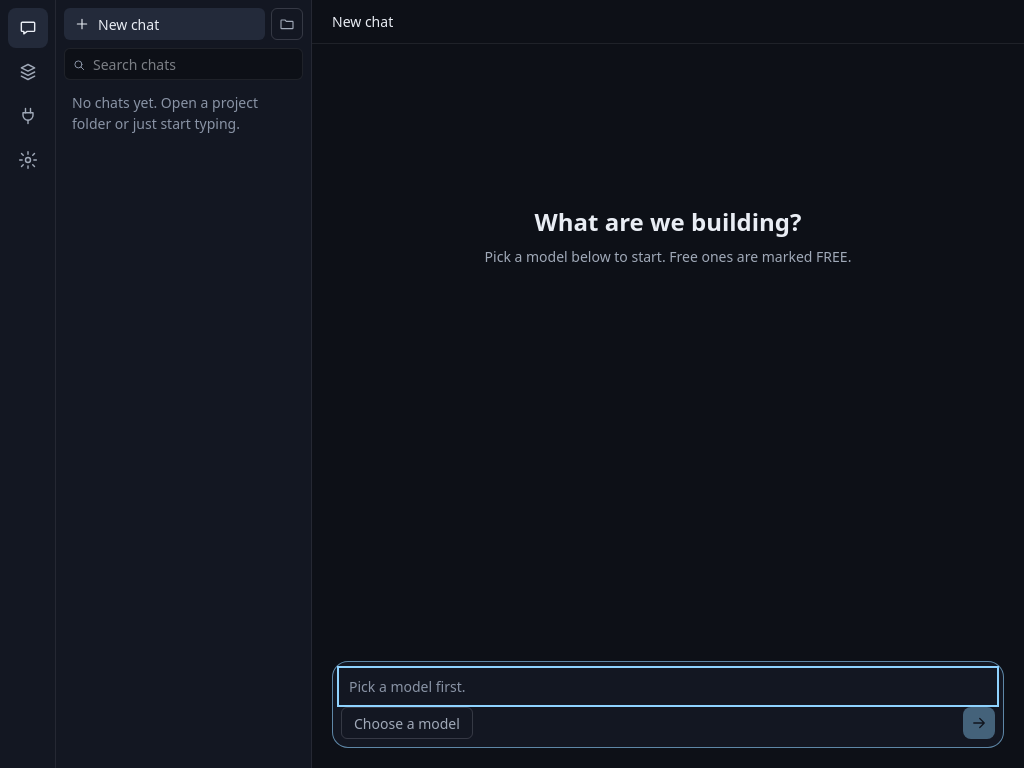
it: App shell › Ctrl+K opens the command palette and Enter runs a command
This screenshot has width=1024, height=768.
Expected: the heading "New chat" is shown, [332,11,393,32]
Type keys "{Control>}k{/Control}"
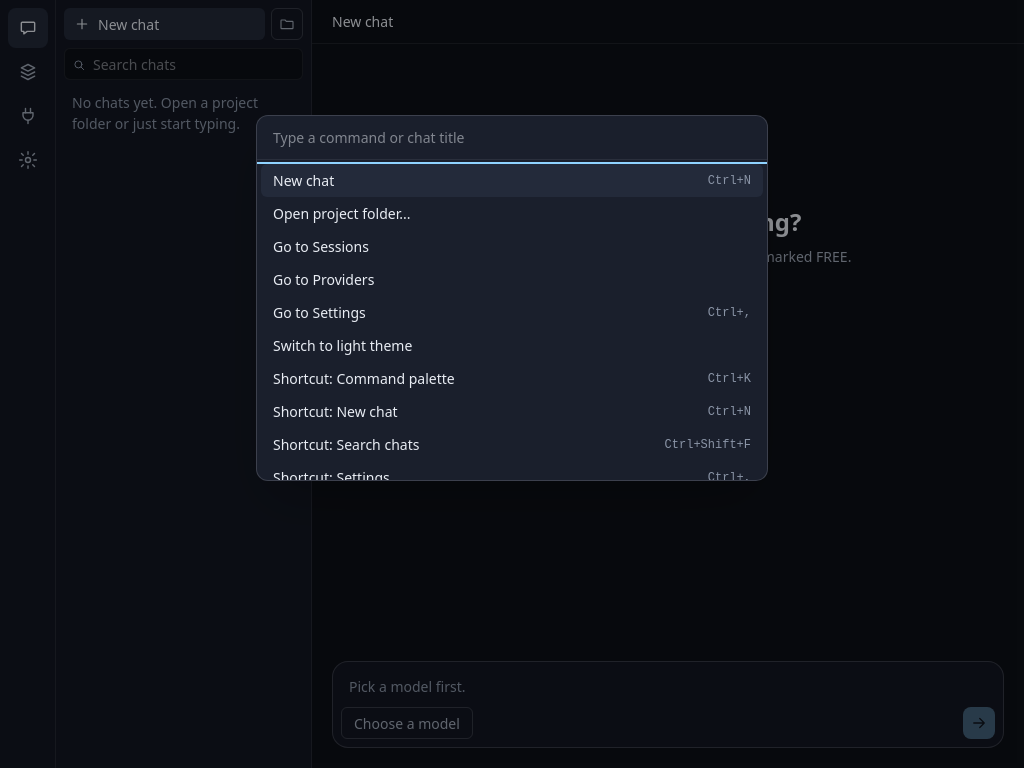
Type "providers" into the dropdown labelled "Type a command" at (512, 138), box [257,116,767,160]
Then press Enter
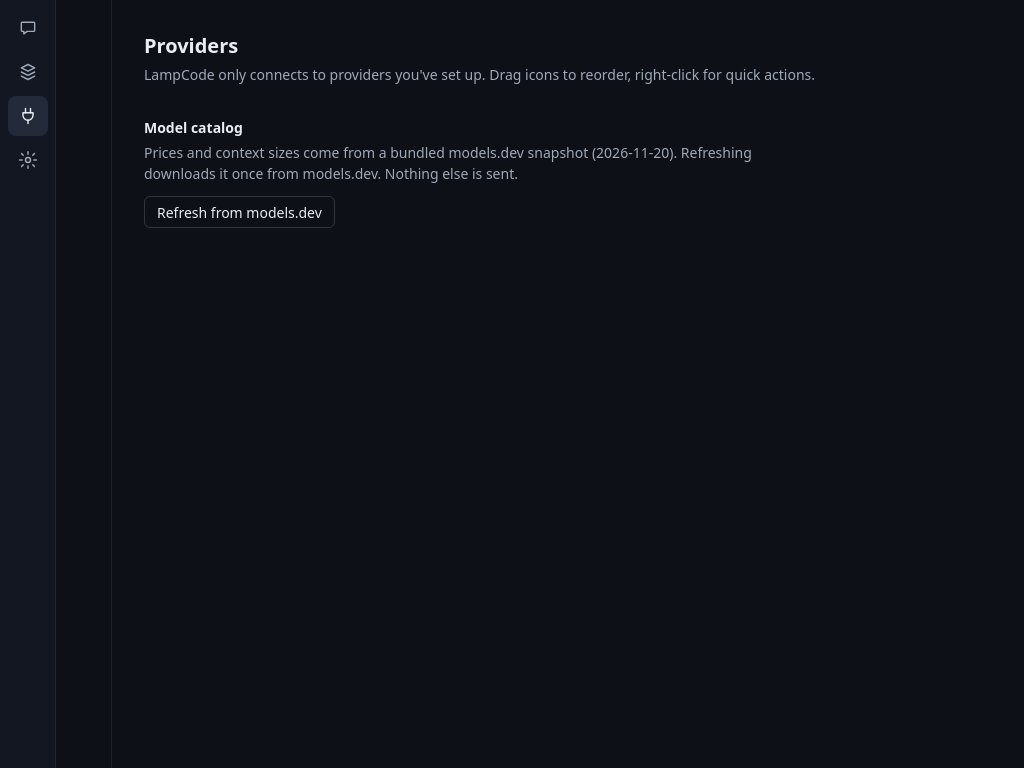
Expected: the heading "Providers" is shown, [144,32,238,59]
Expected: the option "Command palette" is gone
